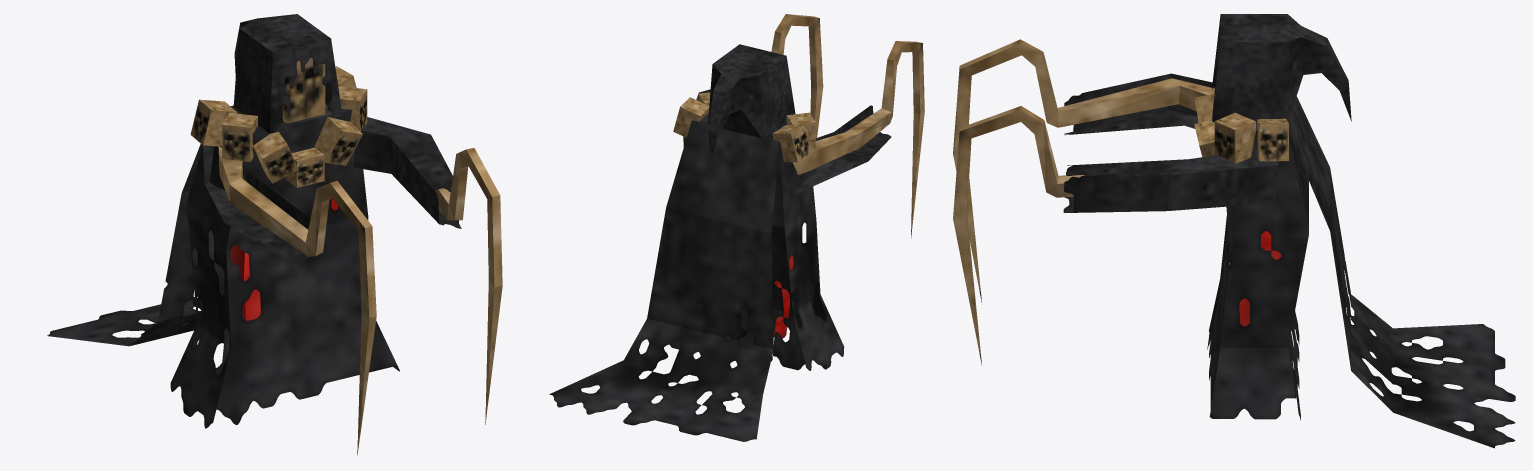
Rendered from reaper.obj.
The picture shows the model from 3 angles, left to right: view 1: azimuth 30°, elevation 25°; view 2: azimuth 150°, elevation 25°; view 3: azimuth 270°, elevation 25°; orthographic projection. The views are drawn at different scales.
Parts seen in each view (by area): view 1: Body, ArmRight, Head, ArmLeft; view 2: Body, Head, ArmRight, ArmLeft; view 3: Body, ArmLeft, Head, ArmRight.
Part boxes in pixels (bbox=[...]): Body: bbox=[47, 66, 399, 428]; ArmRight: bbox=[203, 145, 376, 455]; Head: bbox=[233, 14, 342, 133]; ArmLeft: bbox=[353, 117, 502, 424]; Body: bbox=[549, 92, 844, 441]; Head: bbox=[708, 44, 795, 163]; ArmRight: bbox=[793, 41, 924, 237]; ArmLeft: bbox=[683, 14, 823, 147]; Body: bbox=[1194, 87, 1515, 448]; ArmLeft: bbox=[953, 106, 1278, 364]; Head: bbox=[1212, 14, 1351, 122]; ArmRight: bbox=[953, 39, 1214, 302].
Size of the model in its own units: 1.52 by 1.9 by 2.7.
